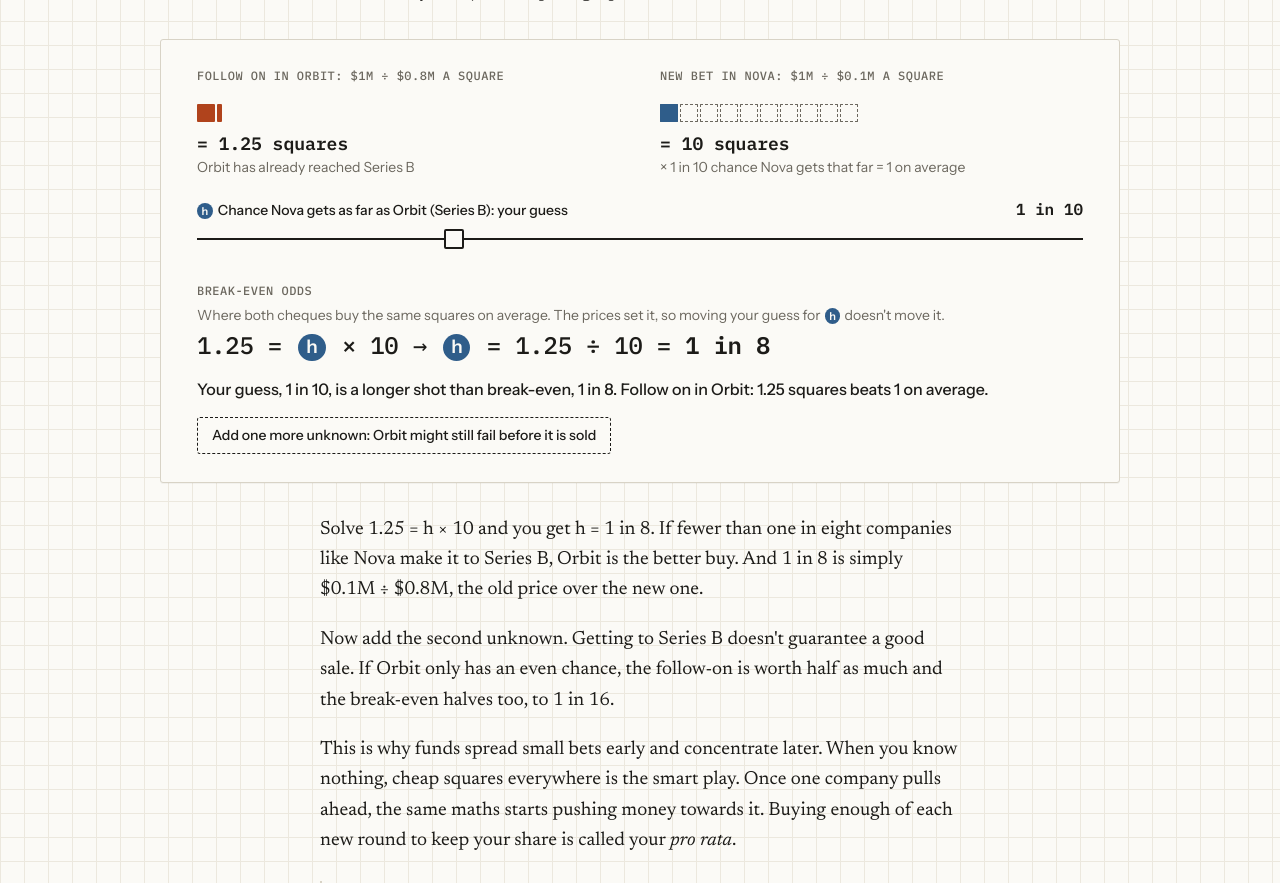
Test case: Model 5: follow on, or a new bet › moves the crossover when the company might still fail
(page scrolled)
Expected: the text with test id "crossover" reads "1 in 8", [685,329,770,361]
Click the button "one more unknown" at [404, 436], box [197,417,611,454]
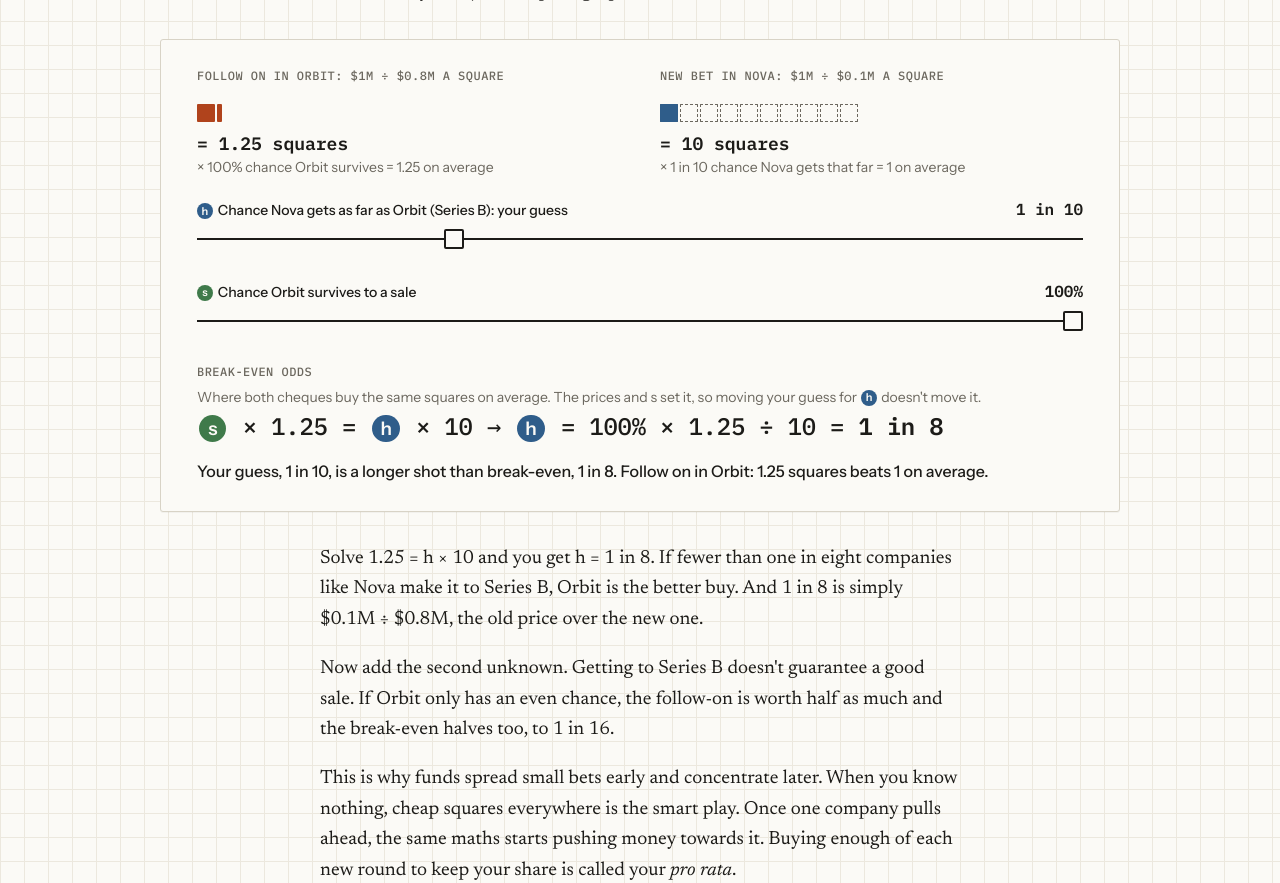
Set the slider labelled "s Chance Orbit survives to a sale" to "1" at [495, 321], box [197,307,1083,335]
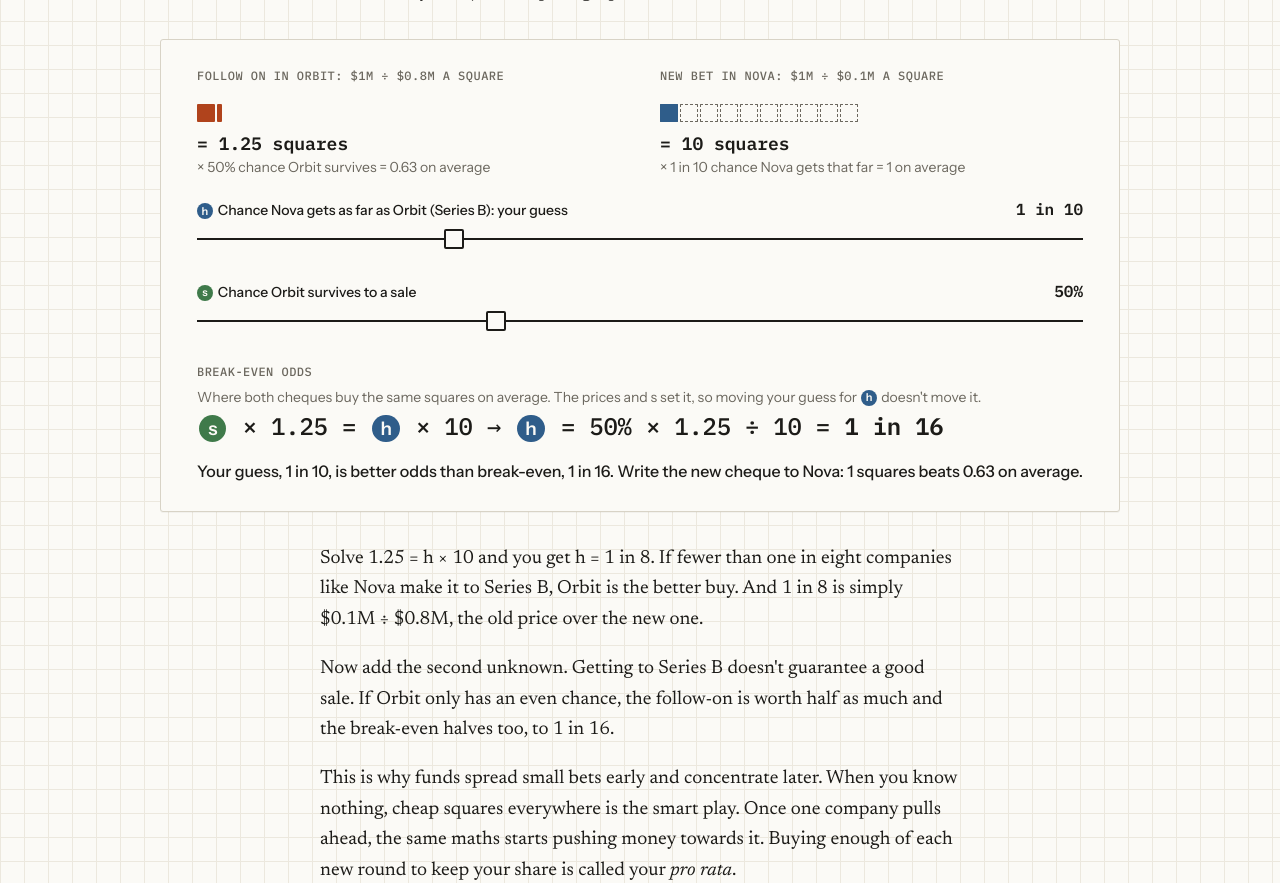
Expected: the text with test id "crossover" reads "1 in 16", [844,410,943,442]
